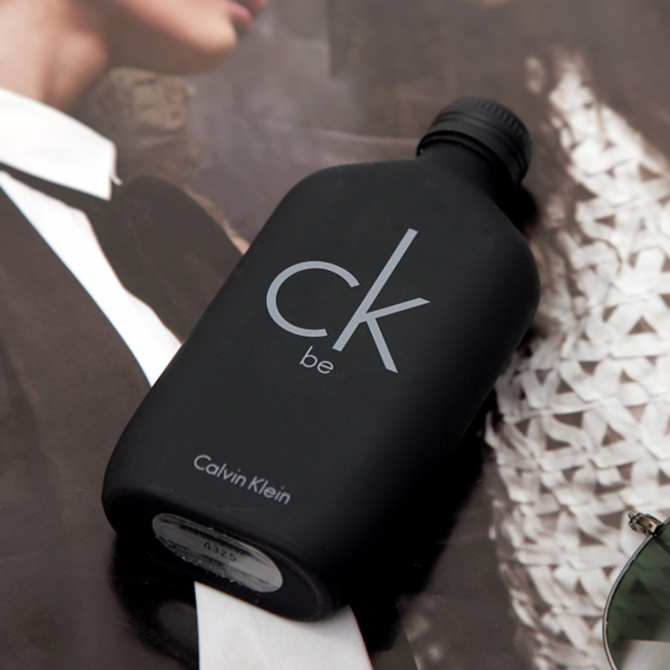Calvin Klein: (256, 215, 444, 379), (173, 429, 314, 511)
